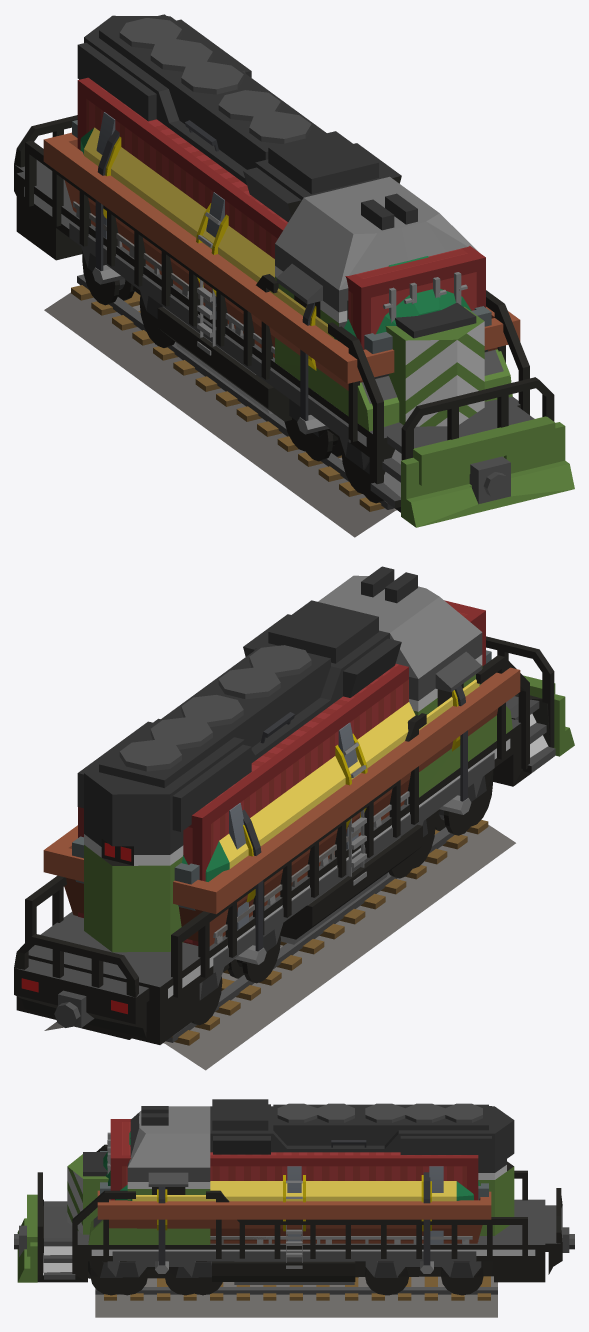
File: ModularTrains_edited(1).fbx
The picture shows the model from 3 angles, top to bottom: view 1: azimuth 30°, elevation 25°; view 2: azimuth 150°, elevation 25°; view 3: azimuth 270°, elevation 25°; orthographic projection. The views are drawn at different scales.
Parts seen in each view (by area): view 1: carriage_locomotive, rail_basic, container, coal1, tank, carriage_base, coal2, pipes; view 2: carriage_locomotive, rail_basic, coal1, container, tank, carriage_base, coal2, pipes; view 3: carriage_locomotive, rail_basic, coal1, container, tank, carriage_base, pipes, coal2.
Boxes of the visible parts, left/top/right/bottom form: carriage_locomotive: left=14, top=14, right=574, bottom=527; rail_basic: left=44, top=274, right=396, bottom=537; container: left=76, top=77, right=485, bottom=349; coal1: left=43, top=132, right=520, bottom=390; tank: left=80, top=120, right=471, bottom=434; carriage_base: left=69, top=222, right=369, bottom=493; coal2: left=72, top=120, right=491, bottom=378; pipes: left=95, top=112, right=224, bottom=318; carriage_locomotive: left=14, top=566, right=574, bottom=1044; rail_basic: left=44, top=820, right=515, bottom=1070; coal1: left=43, top=667, right=520, bottom=946; container: left=78, top=600, right=485, bottom=945; tank: left=182, top=679, right=480, bottom=964; carriage_base: left=194, top=753, right=494, bottom=1024; coal2: left=72, top=650, right=491, bottom=936; pipes: left=229, top=722, right=358, bottom=929; carriage_locomotive: left=14, top=1099, right=574, bottom=1295; rail_basic: left=95, top=1276, right=497, bottom=1317; coal1: left=97, top=1190, right=491, bottom=1244; container: left=107, top=1119, right=478, bottom=1244; tank: left=103, top=1132, right=480, bottom=1273; carriage_base: left=107, top=1251, right=481, bottom=1295; pipes: left=287, top=1166, right=443, bottom=1244; coal2: left=100, top=1151, right=488, bottom=1244.
Size of the model in its own units: 540 by 830 by 2319.
